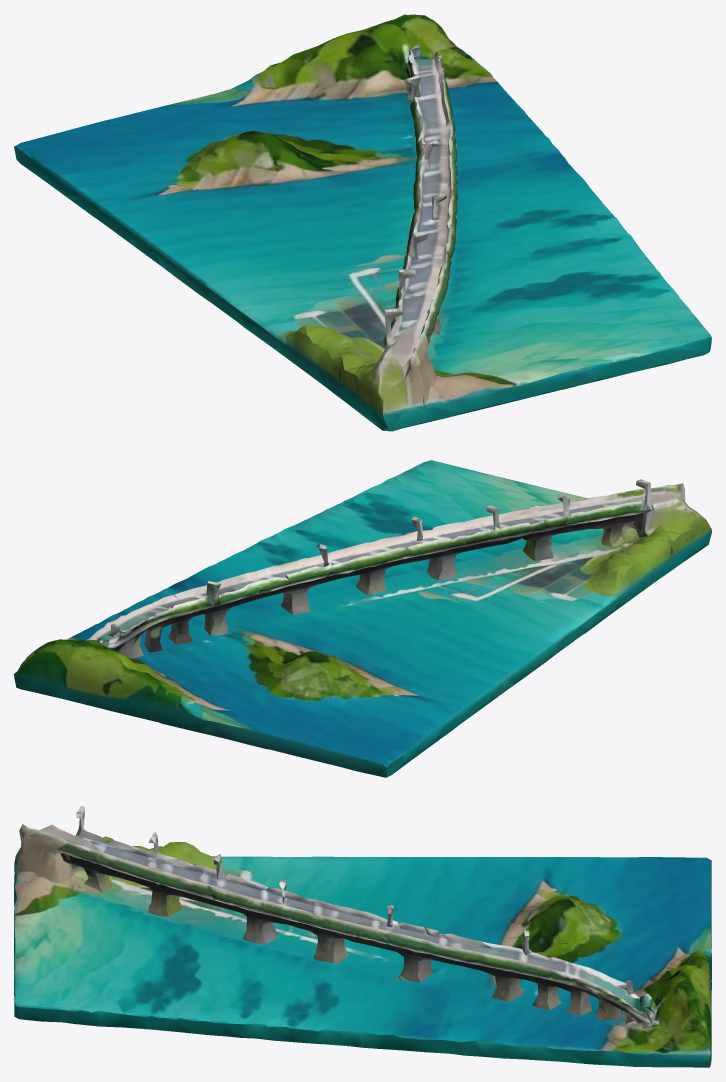
File: tsunoshima-bridge.glb
The picture shows the model from 3 angles, top to bottom: view 1: azimuth 30°, elevation 25°; view 2: azimuth 150°, elevation 25°; view 3: azimuth 270°, elevation 25°; orthographic projection. The views are drawn at different scales.
Visible parts, largest first — view 1: logan-textured.obj; view 2: logan-textured.obj; view 3: logan-textured.obj.
Boxes of the visible parts, x1,y1,x2,y2 form: logan-textured.obj: [14, 14, 711, 431]; logan-textured.obj: [14, 460, 711, 777]; logan-textured.obj: [14, 806, 711, 1067].
Size of the model in its own units: 0.6724 by 0.1296 by 1.
1 material, 1 textured.
